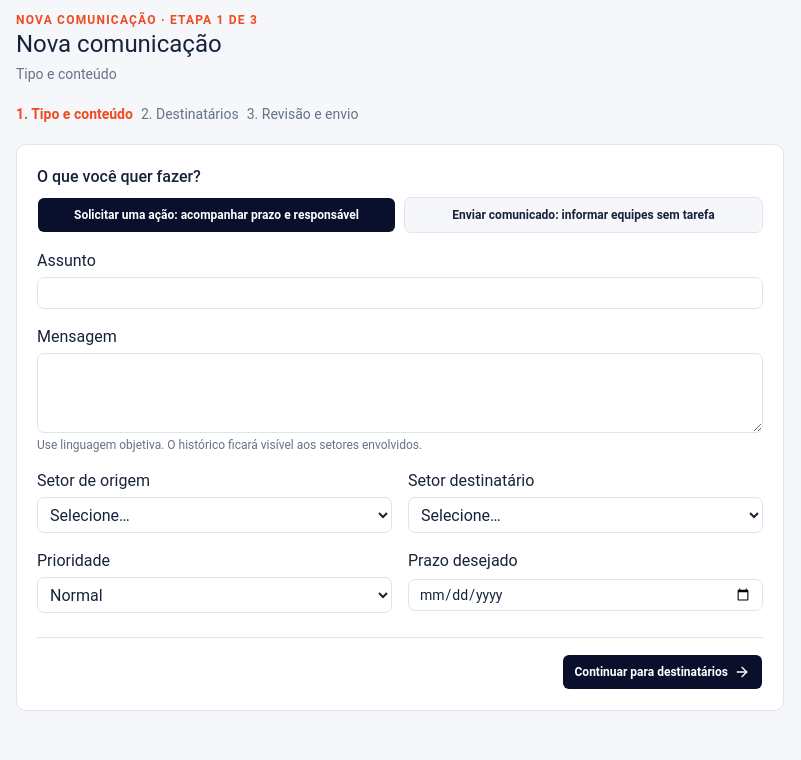
Scenario: CommunicationWizard › exige setor de origem explícito para ADMIN
Type "Ação" into the field labelled "Assunto" at coordinates (400, 293), box [37,277,763,309]
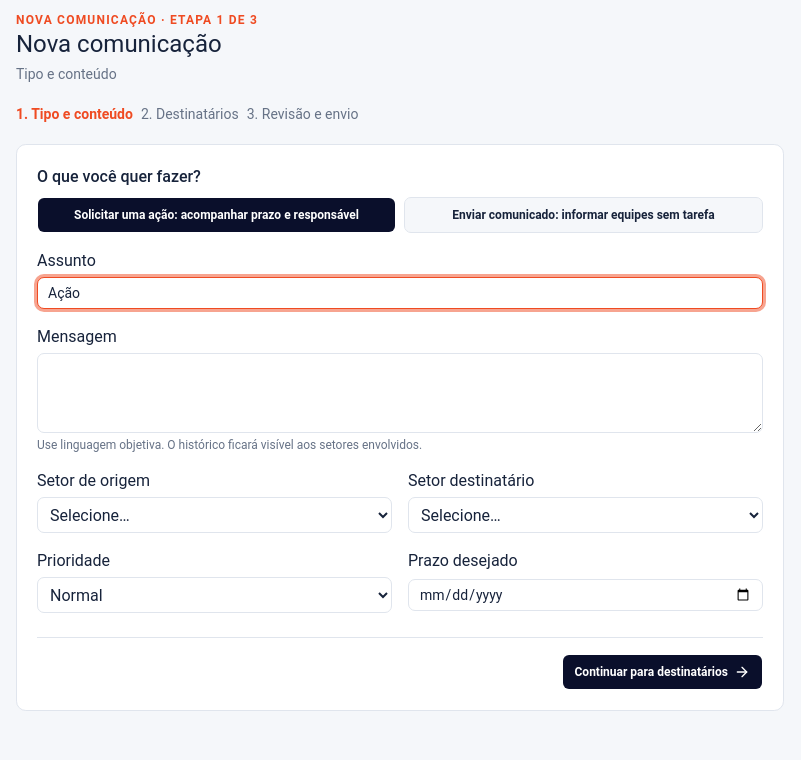
Type "Mensagem suficiente." into the text box labelled "Mensagem" at coordinates (400, 393), box [37,353,763,433]
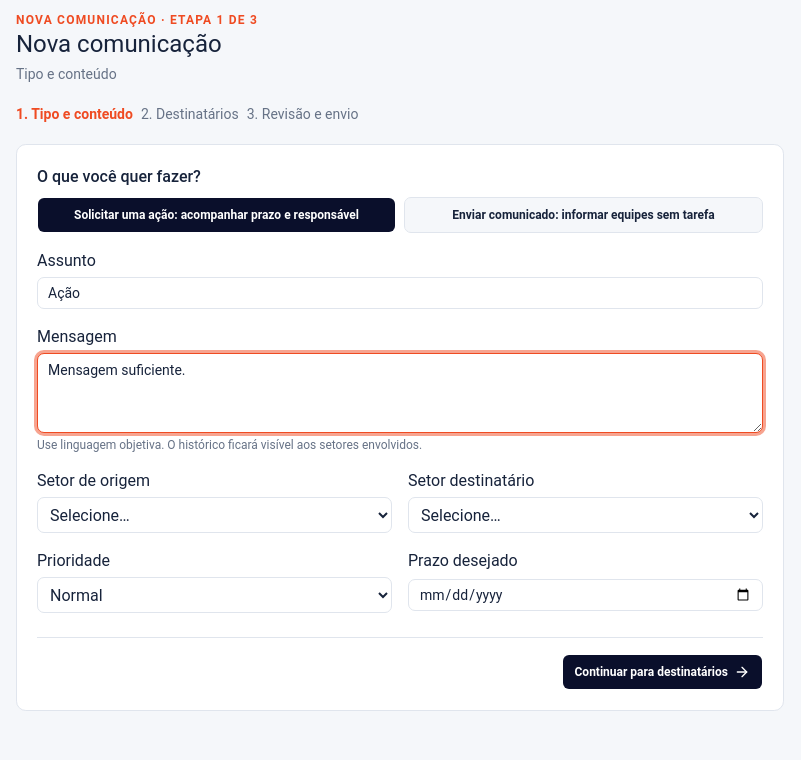
Select "Qualidade" in the dropdown labelled "Setor destinatário" at coordinates (586, 515), box [408,497,763,533]
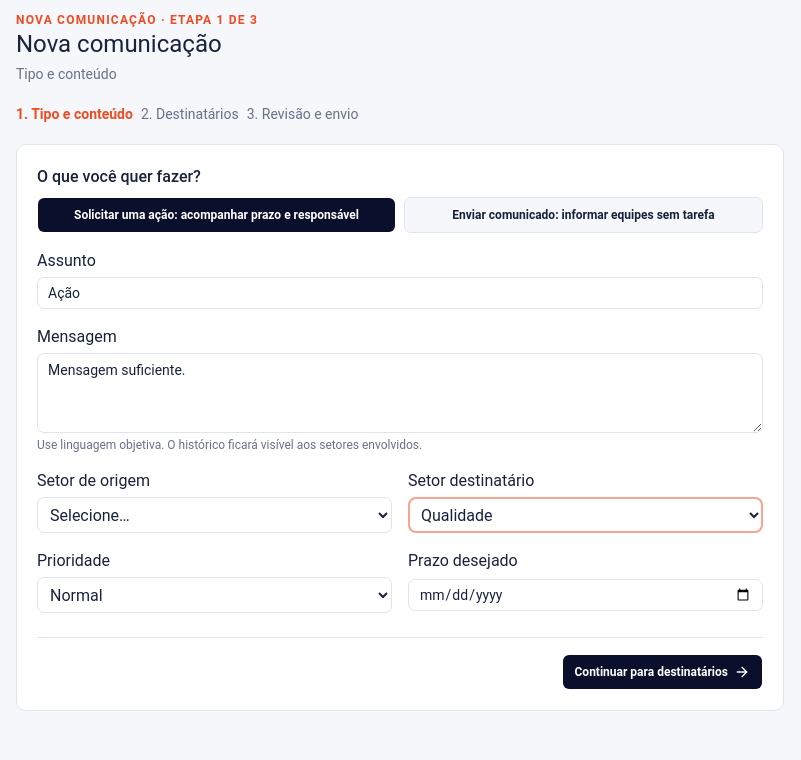
Click the button "Continuar para destinatários" at coordinates (662, 672), box [562,654,763,690]
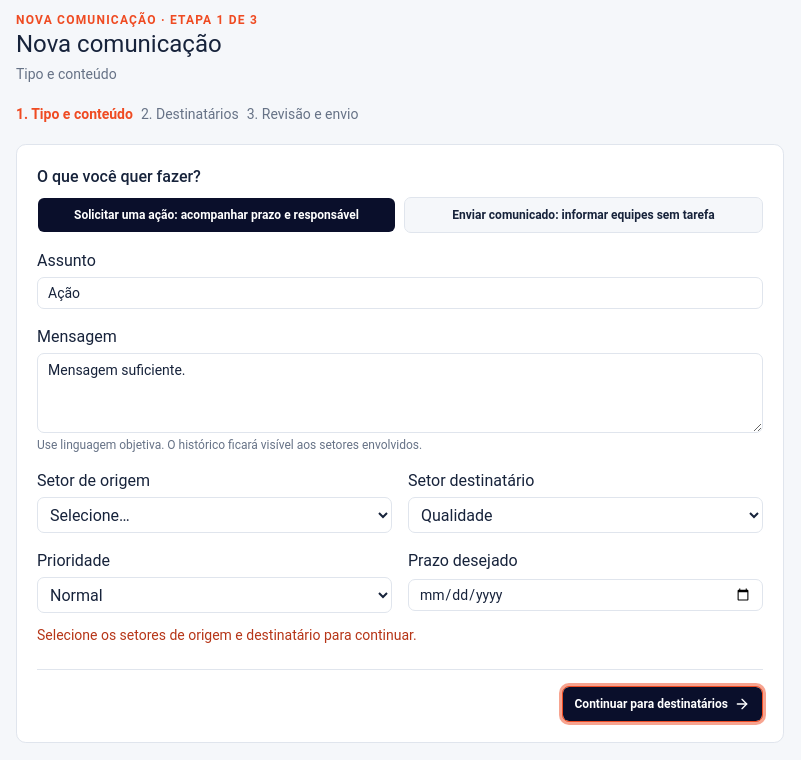
Result: the message shows "setores de origem" at [37,627,417,643]
